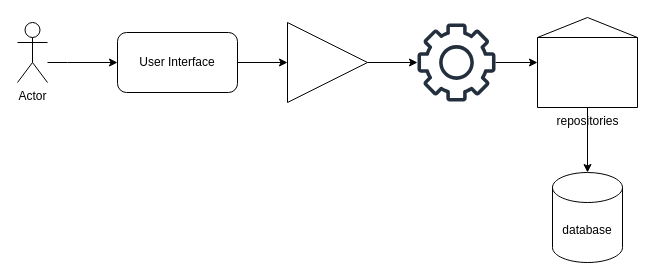
Some shapes in this 655 by 280 pixel diagram are drawn without their labels. The shapes that lost their labels are listed below. From the top down, each one's centre as x and y in pixels, then its label:
At pixel 327 62: "controllers".
At pixel 456 62: "services".
